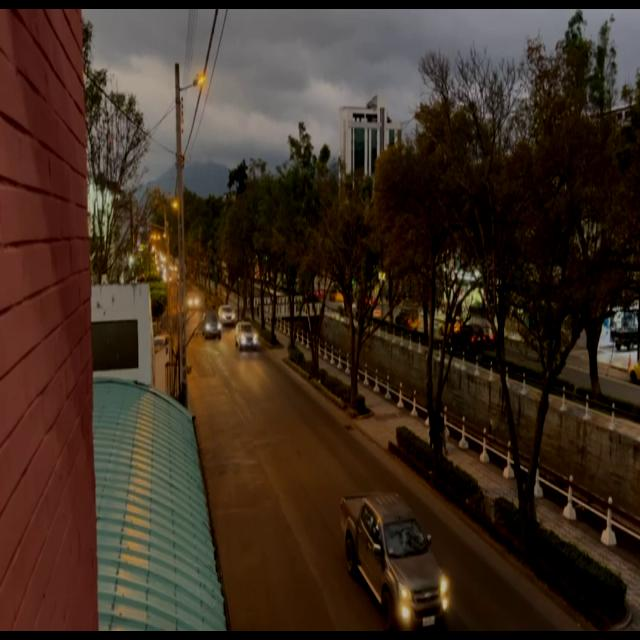CMT: (342, 499, 444, 629)
SUV: (237, 322, 256, 350)
